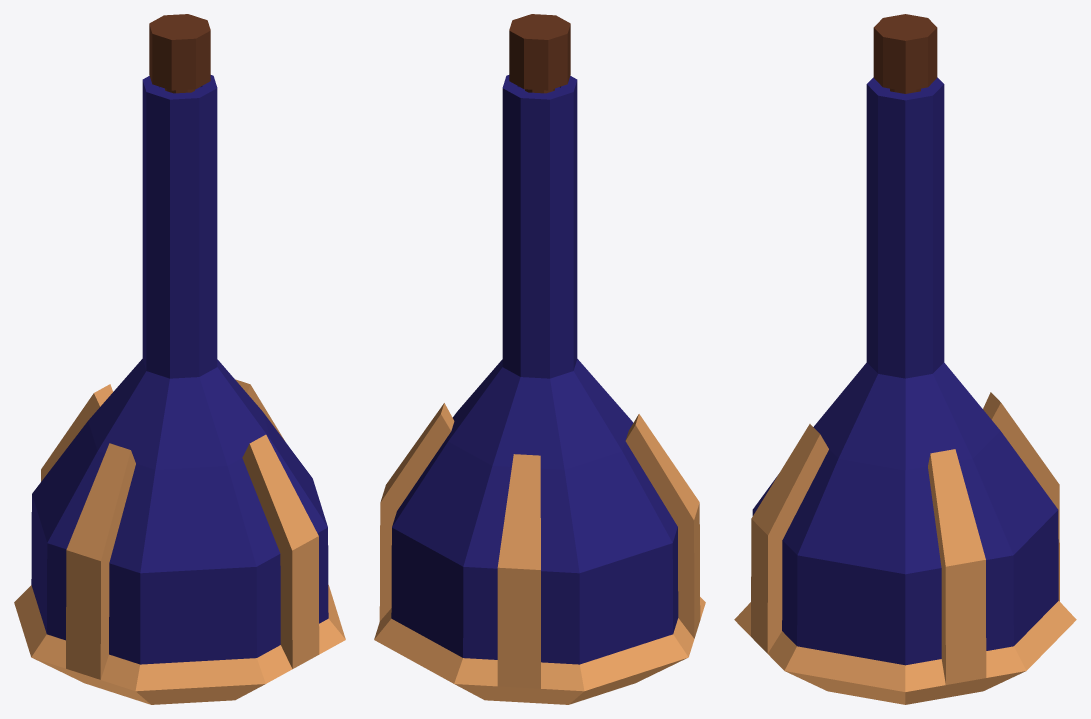
File: Potion.glb
3 views of the same model, side by side, from view 1: azimuth 30°, elevation 25°; view 2: azimuth 150°, elevation 25°; view 3: azimuth 270°, elevation 25° (orthographic).
Parts seen in each view (by area): view 1: Potion; view 2: Potion; view 3: Potion.
Boxes of the visible parts, x1,y1,x2,y2 form: Potion: [14, 14, 345, 704]; Potion: [374, 14, 705, 704]; Potion: [734, 14, 1076, 704].
Bounding box in the file's own units: 0.5738 × 1.17 × 0.5738.
